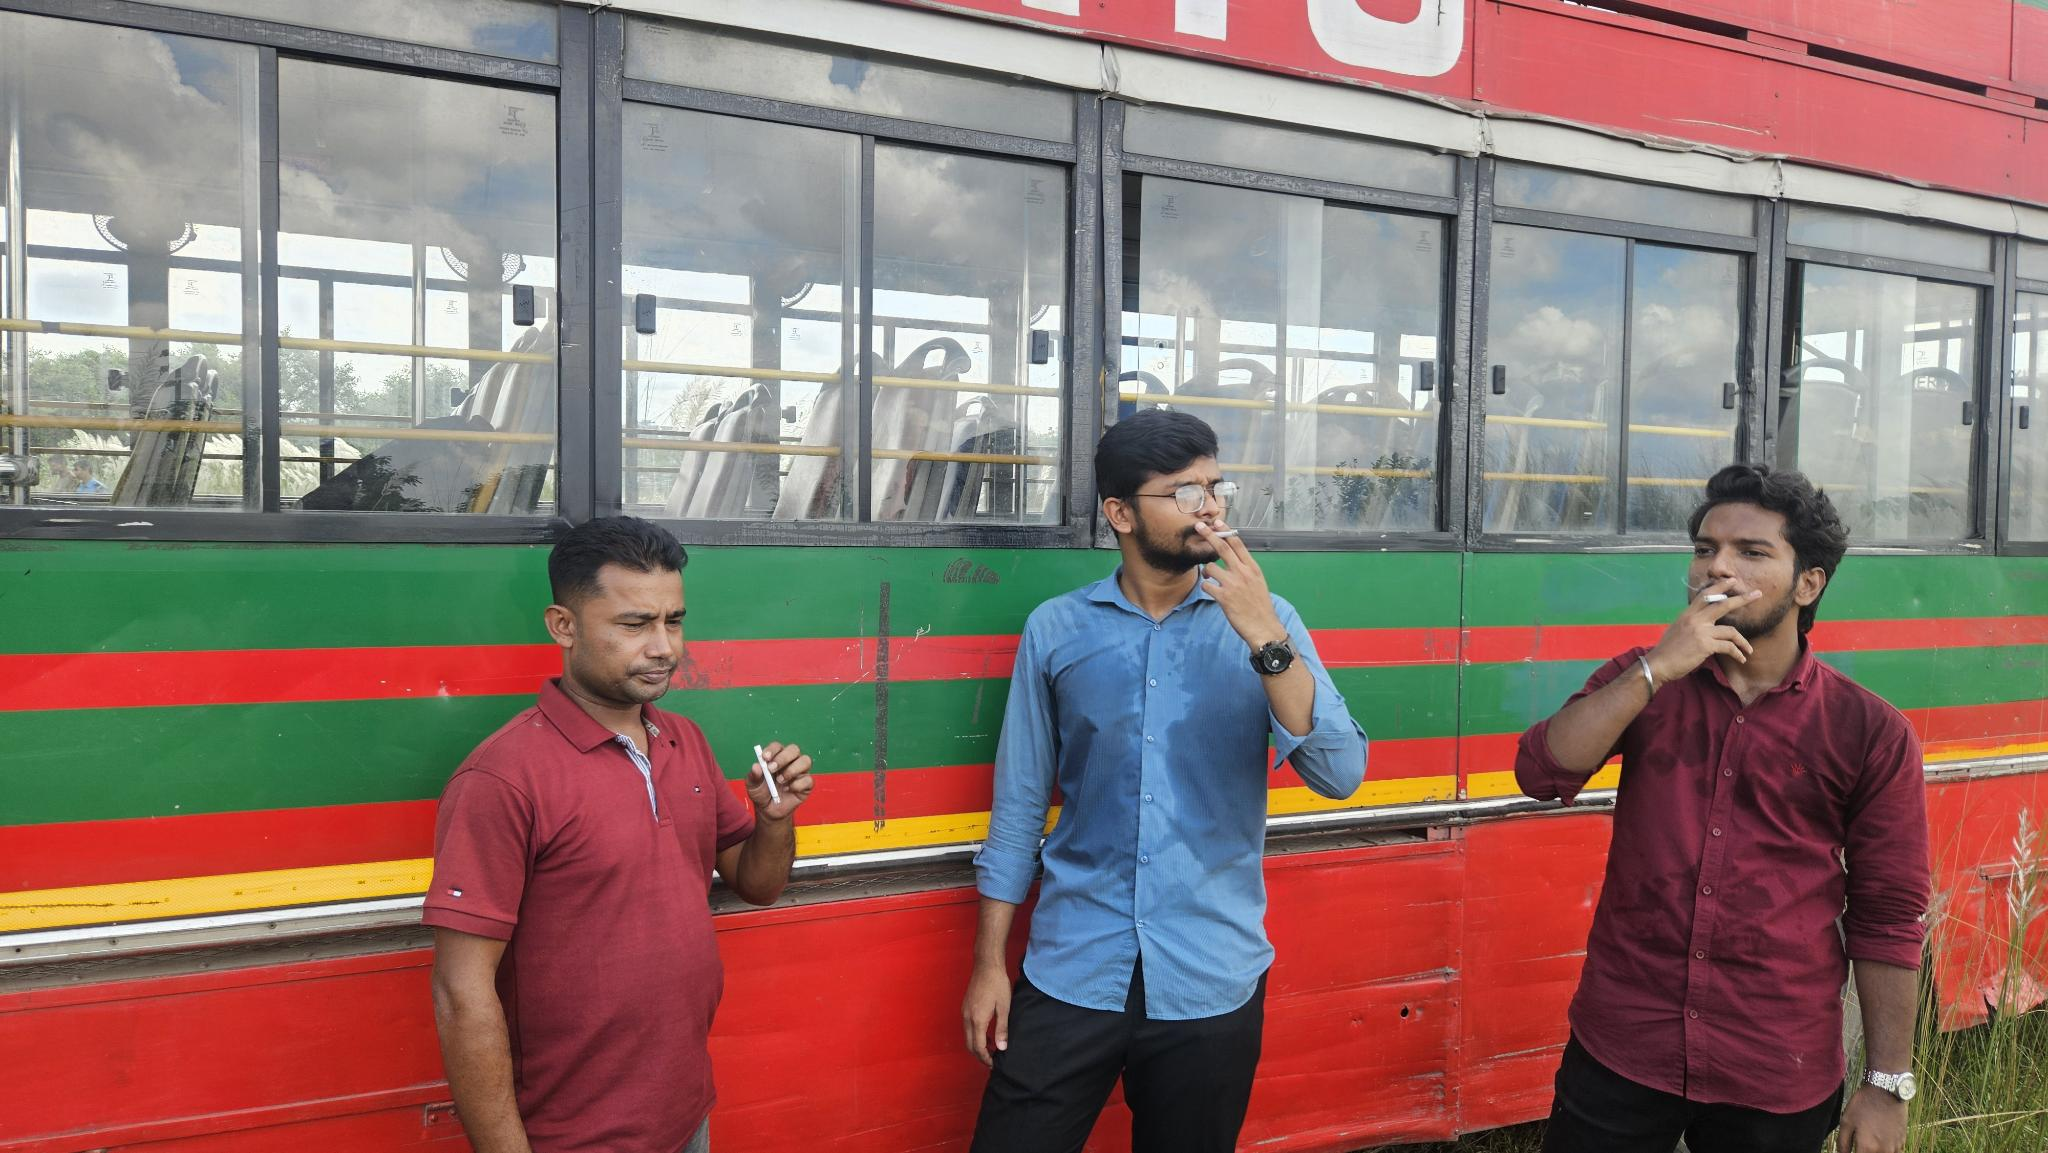cigarette: (751, 742, 782, 806), (1699, 592, 1730, 606), (1212, 527, 1241, 539)
smoker: (961, 406, 1367, 1153), (1513, 464, 1931, 1153), (421, 516, 814, 1153)
